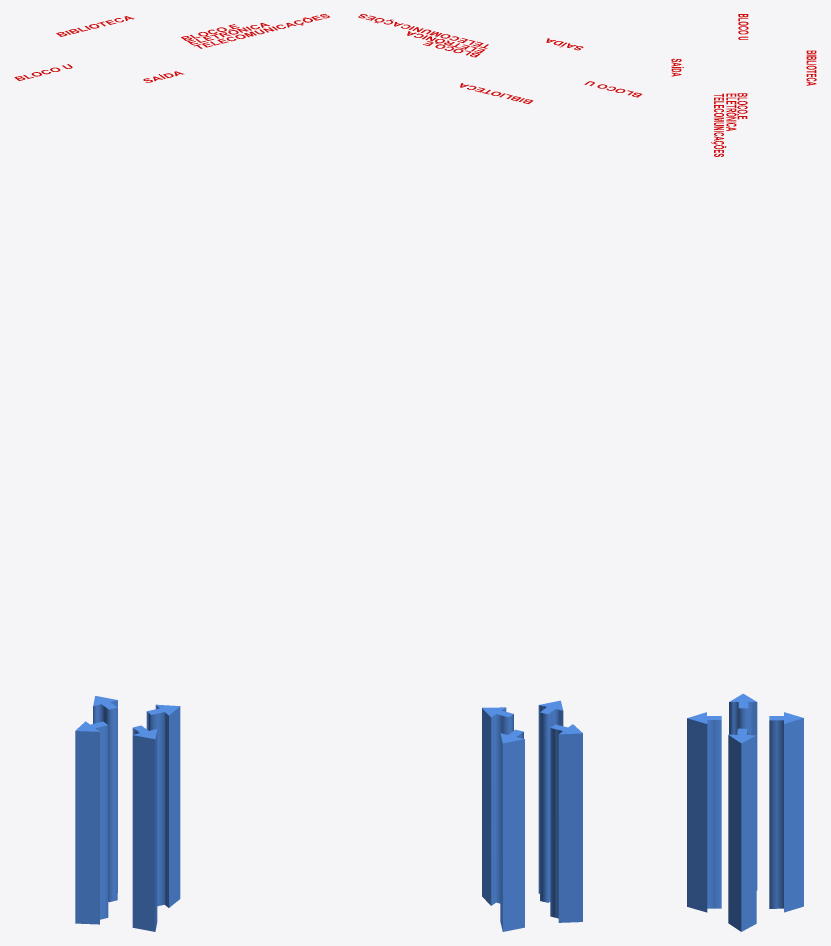
File: Seta biblioteca.glb
3 views of the same model, side by side, from view 1: azimuth 30°, elevation 25°; view 2: azimuth 150°, elevation 25°; view 3: azimuth 270°, elevation 25° (orthographic). The views are drawn at different scales.
Parts seen in each view (by area): view 1: Curve.001, Curve.004, Curve.003, Curve.006; view 2: Curve.001, Curve.006, Curve.003, Curve.004; view 3: Curve.004, Curve.006, Curve.003, Curve.001, Text.005.
Boxes of the visible parts, box(x1,y1,x2,y2) form: Curve.001: box(75, 721, 108, 924); Curve.004: box(132, 725, 157, 931); Curve.003: box(146, 704, 180, 907); Curve.006: box(93, 696, 117, 902); Curve.001: box(550, 724, 582, 922); Curve.006: box(500, 729, 524, 931); Curve.003: box(482, 707, 513, 905); Curve.004: box(538, 700, 563, 902); Curve.004: box(687, 712, 721, 912); Curve.006: box(769, 712, 803, 912); Curve.003: box(728, 728, 756, 931); Curve.001: box(729, 693, 757, 890); Text.005: box(711, 93, 726, 156).
Size of the model in its own units: 0.2141 by 0.5868 by 0.092.
